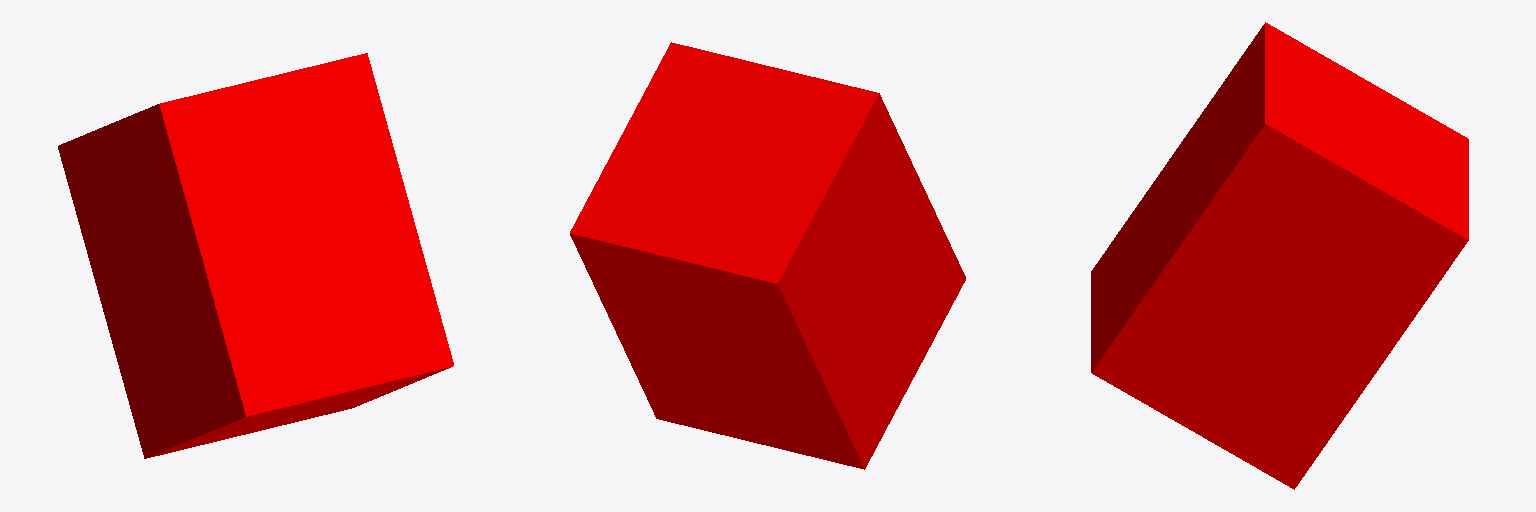
File: tilted.obj
The picture shows the model from 3 angles: view 1: azimuth 30°, elevation 25°; view 2: azimuth 150°, elevation 25°; view 3: azimuth 270°, elevation 25°; orthographic projection.
Bounding box in the file's own units: 1 × 1.68 × 1.57.